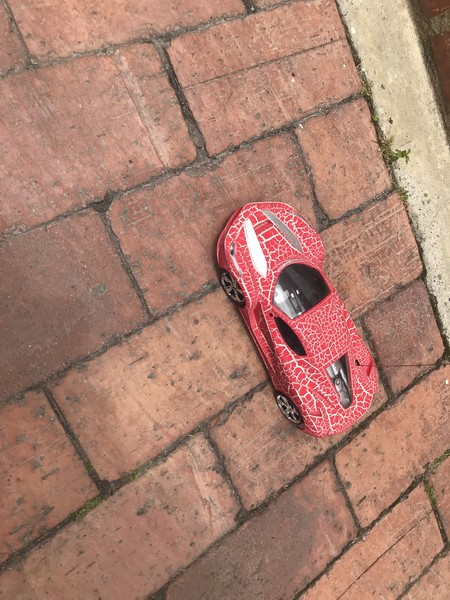RC: (214, 199, 379, 442)
